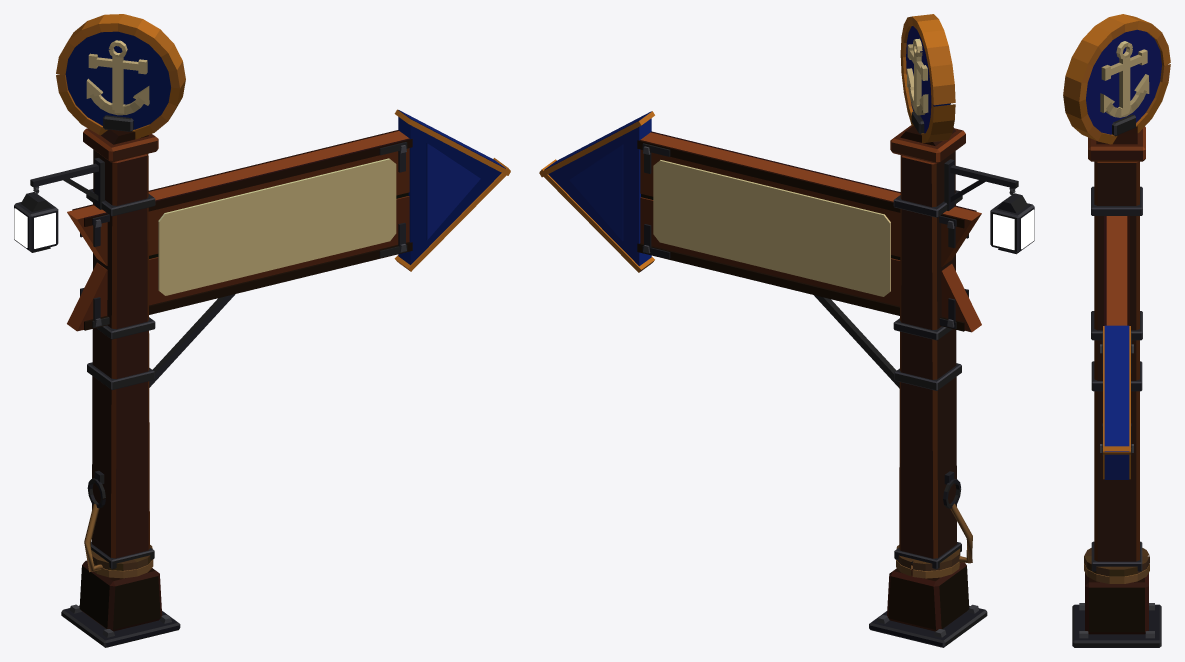
File: harbor_route_marker.glb
3 views of the same model, side by side, from view 1: azimuth 30°, elevation 25°; view 2: azimuth 150°, elevation 25°; view 3: azimuth 270°, elevation 25° (orthographic).
Parts seen in each view (by area): view 1: SignBoard, Post, MaritimeIcon, MetalTrim, OptionalLantern, OptionalRope; view 2: SignBoard, Post, MetalTrim, MaritimeIcon, OptionalLantern, OptionalRope; view 3: Post, MaritimeIcon, SignBoard, MetalTrim, OptionalRope.
Part boxes in pixels (box(x1,y1,x2,y2)): SignBoard: box(67, 110, 505, 331); Post: box(61, 128, 180, 647); MaritimeIcon: box(56, 14, 185, 139); MetalTrim: box(70, 109, 510, 637); OptionalLantern: box(14, 158, 104, 252); OptionalRope: box(84, 504, 153, 578); SignBoard: box(544, 111, 981, 332); Post: box(869, 125, 987, 647); MetalTrim: box(539, 111, 978, 637); MaritimeIcon: box(900, 14, 955, 143); OptionalLantern: box(944, 159, 1034, 254); OptionalRope: box(896, 503, 972, 578); Post: box(1072, 126, 1161, 647); MaritimeIcon: box(1063, 14, 1170, 144); SignBoard: box(1104, 216, 1129, 479); MetalTrim: box(1079, 186, 1154, 638); OptionalRope: box(1084, 548, 1149, 583).
Bounding box in the file's own units: 5.43 × 6.49 × 1.04.
